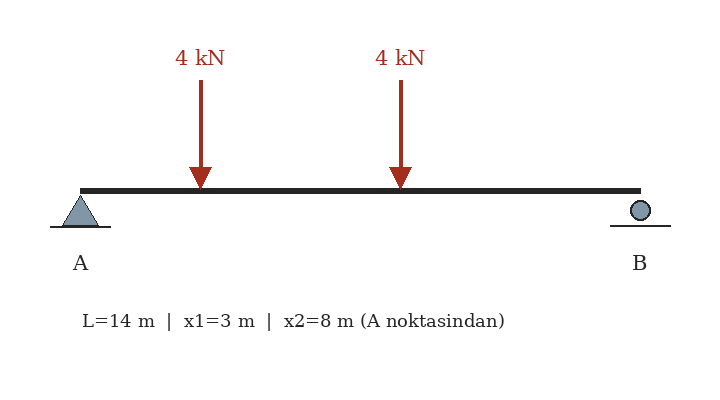pin_support: (61, 190, 99, 226)
point_load: (186, 76, 214, 190), (386, 76, 414, 190)
roller_support: (625, 196, 655, 227)
